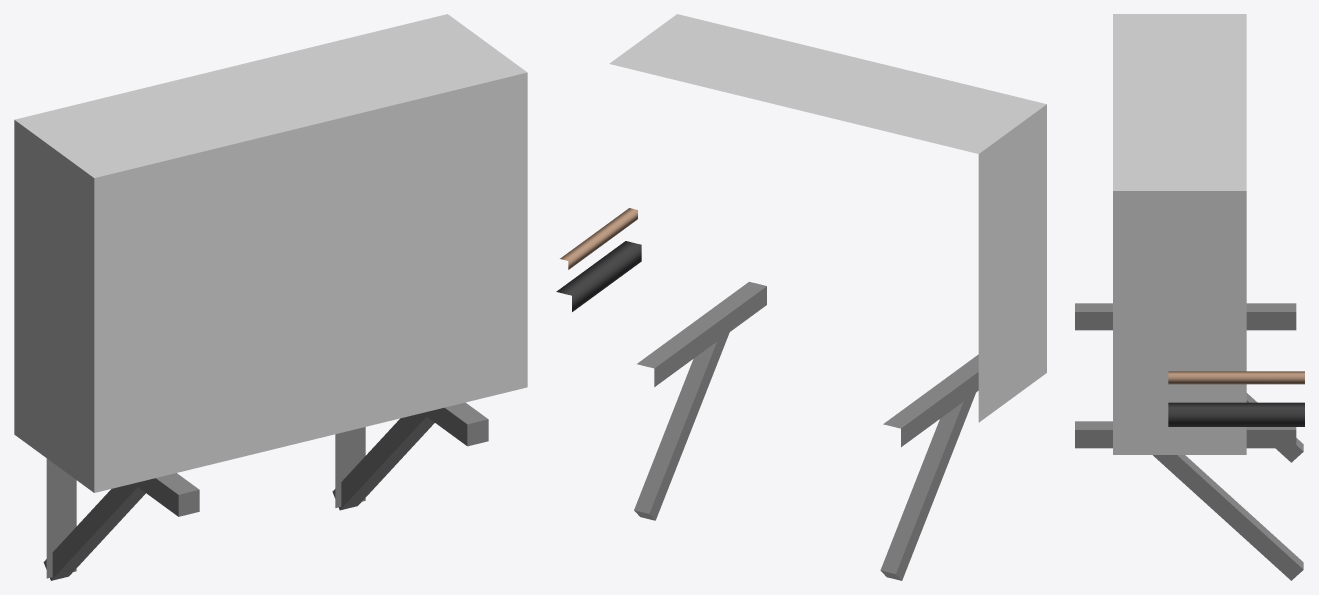
Rendered from 1730-Buildings-part-models-acUnit.glb.
3 renders of one model, left to right at view 1: azimuth 30°, elevation 25°; view 2: azimuth 150°, elevation 25°; view 3: azimuth 270°, elevation 25°, orthographic. The views are drawn at different scales.
Visible parts, largest first — view 1: Buildings: part models/acUnit; view 2: Buildings: part models/acUnit; view 3: Buildings: part models/acUnit.
Boxes of the visible parts, x1=… form: Buildings: part models/acUnit: x1=14, y1=14, x2=527, y2=580; Buildings: part models/acUnit: x1=556, y1=14, x2=1046, y2=580; Buildings: part models/acUnit: x1=1075, y1=14, x2=1304, y2=580.
Size of the model in its own units: 0.7656 by 0.7879 by 0.395.
